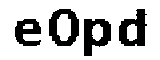0: (47, 4, 82, 51)
d: (116, 7, 149, 53)
e: (12, 15, 44, 49)
p: (82, 16, 113, 60)
